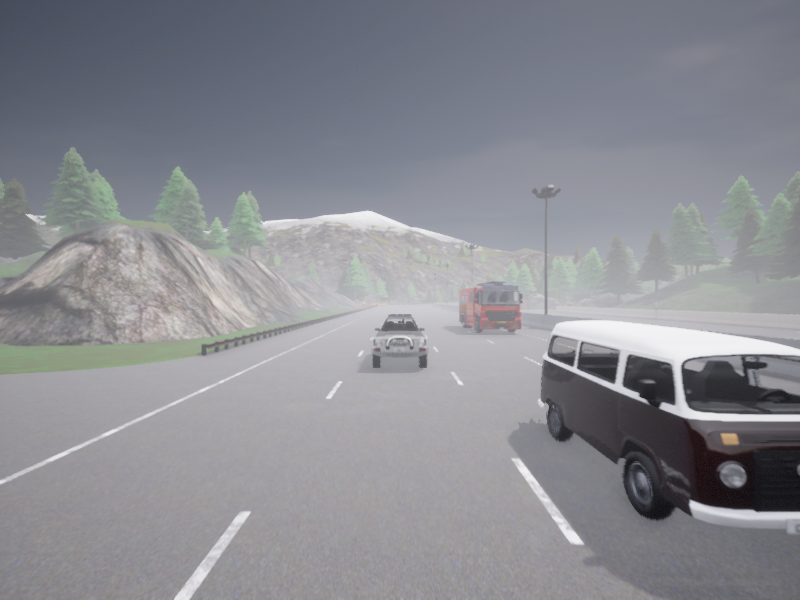vehicle: (538, 321, 799, 534), (459, 281, 522, 332), (371, 314, 427, 367)
